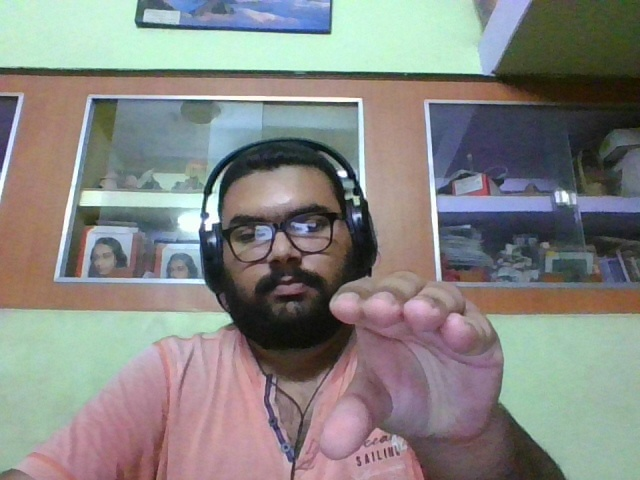no: (320, 285, 502, 464)
